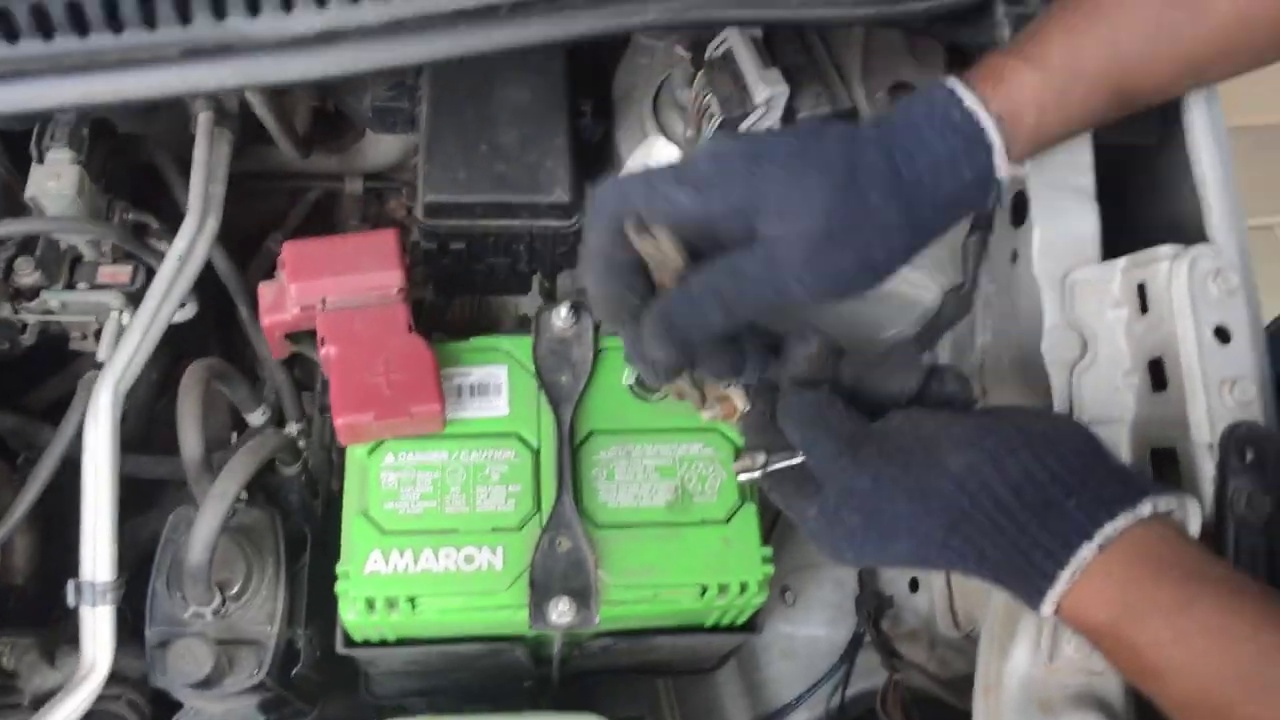battery: (328, 263, 775, 619)
pos_connected: (271, 212, 472, 449)
